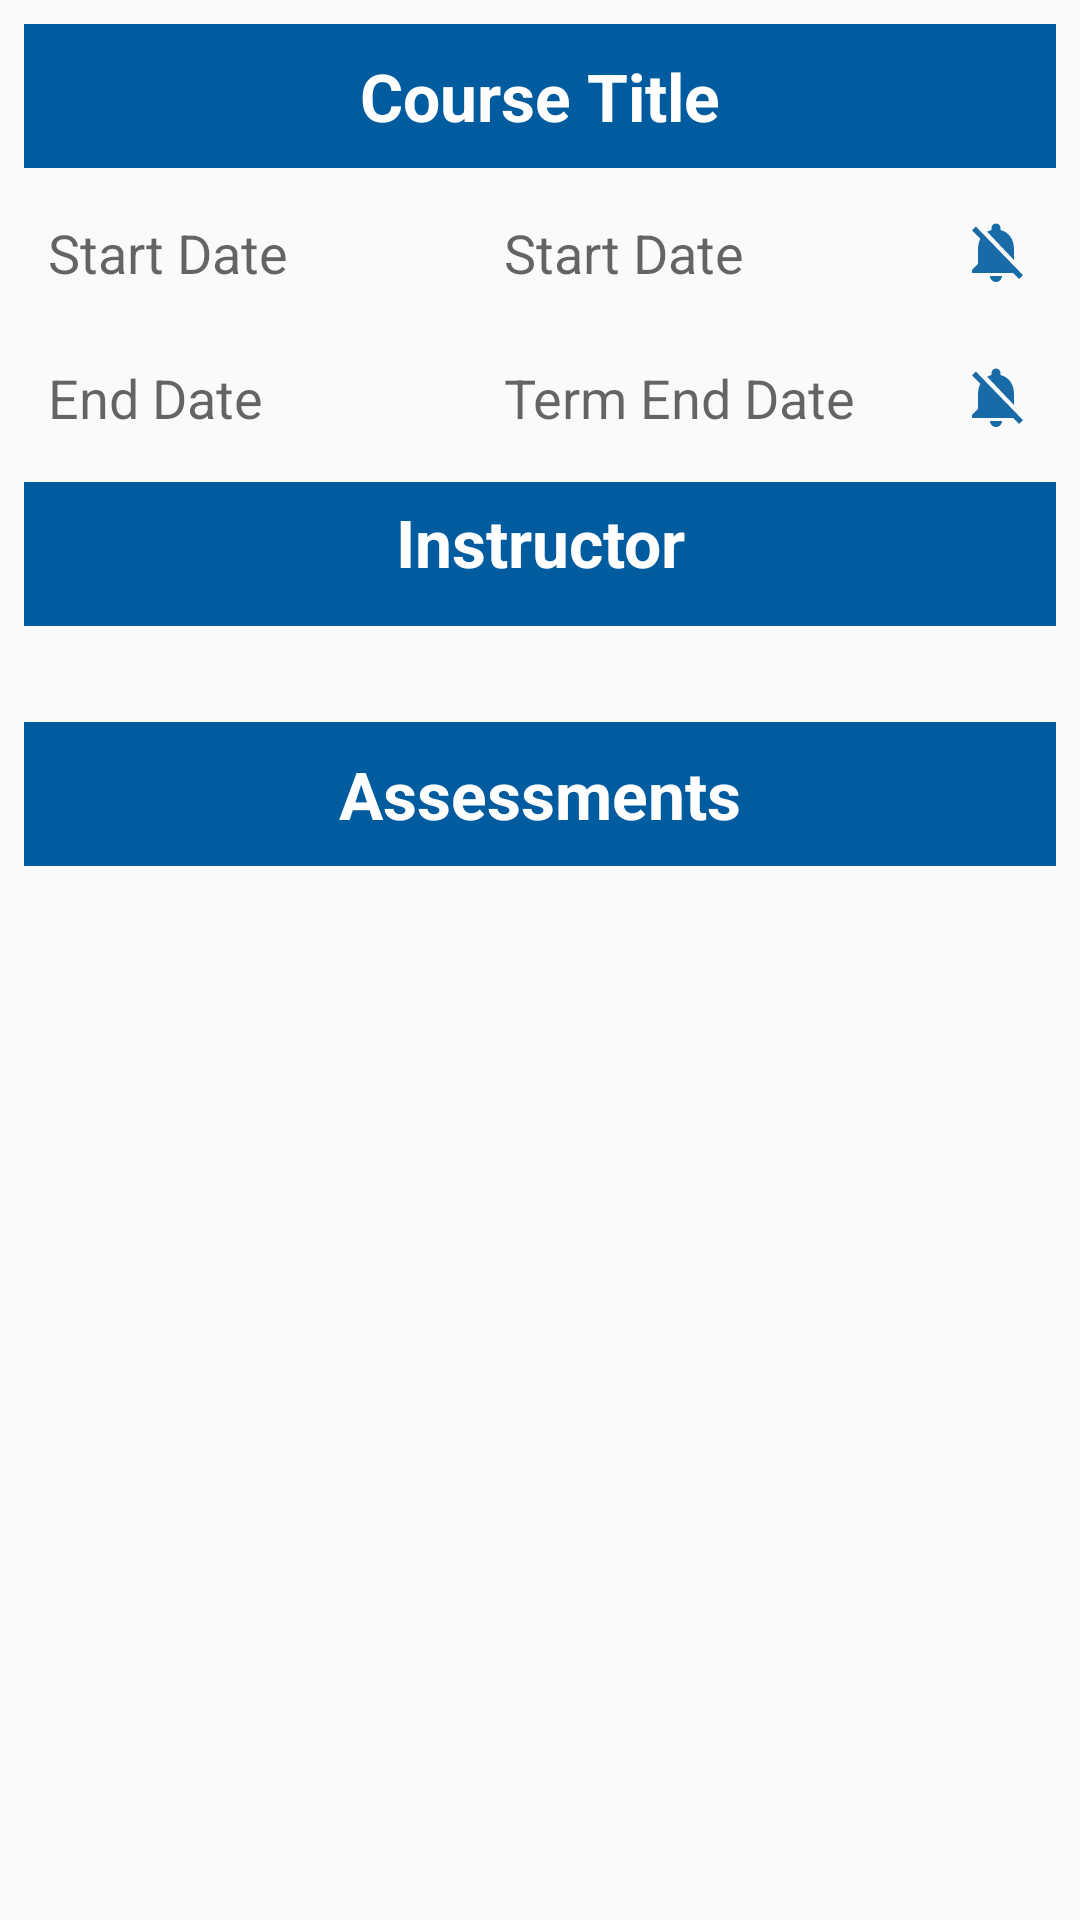

Named icons in this screenshot (1080w x 1920h) and their centers, [x,y]:
notifications off: [997,252], [997,397]
